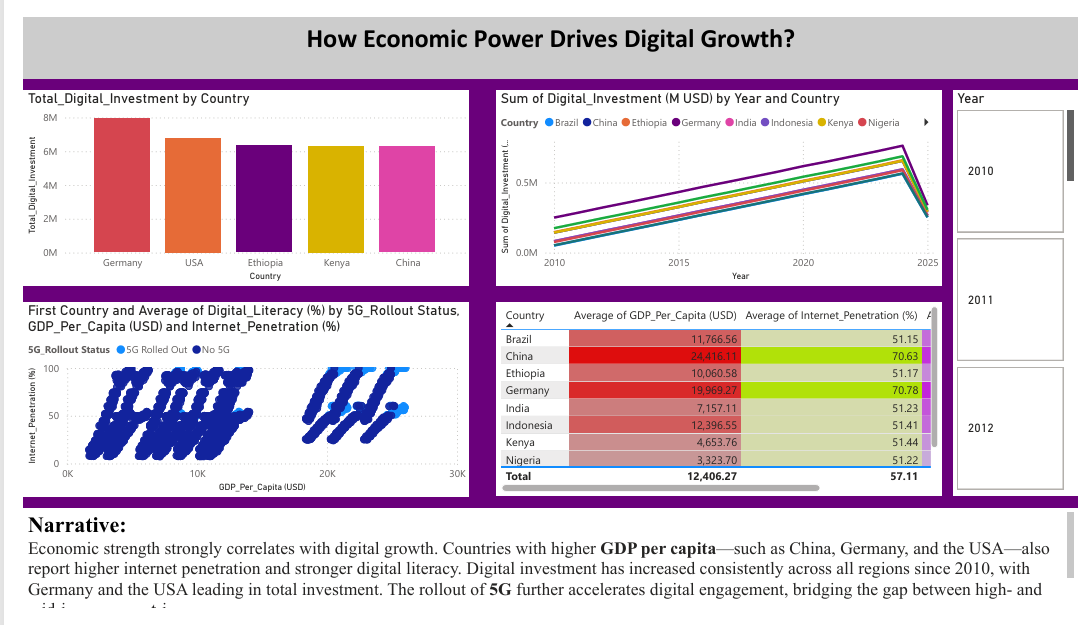

The page's visual inventory and layout, read from the dashboard file:
{"tool":"powerbi","page":{"name":"Page 3","canvas":[1280,720],"ordinal":2},"visuals":[{"type":"scatterChart","fields":{"X":["global_internet_adoption_daily_2010_2025_with_clusters.GDP_Per_Capita (USD)"],"Y":["global_internet_adoption_daily_2010_2025_with_clusters.Internet_Penetration (%)"],"Series":["global_internet_adoption_daily_2010_2025_with_clusters.5G_Status"]},"box":[0,344.8,541,236],"z":0},{"type":"columnChart","fields":{"Category":["global_internet_adoption_daily_2010_2025_with_clusters.Country"],"Y":["All Measures.Total_Digital_Investment"]},"box":[0,88.3,541.1,236.8],"z":1000},{"type":"lineChart","fields":{"Category":["global_internet_adoption_daily_2010_2025_with_clusters.Date.Variation.Date Hierarchy.Year","global_internet_adoption_daily_2010_2025_with_clusters.Date.Variation.Date Hierarchy.Quarter","global_internet_adoption_daily_2010_2025_with_clusters.Date.Variation.Date Hierarchy.Month","global_internet_adoption_daily_2010_2025_with_clusters.Date.Variation.Date Hierarchy.Day"],"Y":["Sum(global_internet_adoption_daily_2010_2025_with_clusters.Digital_Investment (M USD))"],"Series":["global_internet_adoption_daily_2010_2025_with_clusters.Country"]},"box":[574.2,88.3,541.1,236.8],"z":2000},{"type":"tableEx","fields":{"Values":["global_internet_adoption_daily_2010_2025_with_clusters.Country","Avg(global_internet_adoption_daily_2010_2025_with_clusters.GDP_Per_Capita (USD))","Avg(global_internet_adoption_daily_2010_2025_with_clusters.Internet_Penetration (%))","Avg(global_internet_adoption_daily_2010_2025_with_clusters.Digital_Literacy (%))"]},"box":[574.2,344.8,541.1,235.6],"z":3000},{"type":"advancedSlicerVisual","fields":{"Values":["global_internet_adoption_daily_2010_2025_with_clusters.Date.Variation.Date Hierarchy.Year"]},"box":[1127.6,88.3,152.1,492],"z":4000},{"type":"textbox","box":[0,0,1280.3,75.5],"z":5000},{"type":"textbox","box":[0,595.1,1279.8,125.2],"z":5001}]}

Visuals, with their boxes in screenshot pixels (x1, y1, x2, y2), scaled from the page's 1280x720 canvas onto the 1088x625 screenshot:
scatterChart - global_internet_adoption_daily_2010_2025_with_clusters.GDP_Per_Capita (USD) x global_internet_adoption_daily_2010_2025_with_clusters.Internet_Penetration (%): 0 299 460 504
columnChart - global_internet_adoption_daily_2010_2025_with_clusters.Country x All Measures.Total_Digital_Investment: 0 77 460 282
lineChart - global_internet_adoption_daily_2010_2025_with_clusters.Date.Variation.Date Hierarchy.Year x global_internet_adoption_daily_2010_2025_with_clusters.Date.Variation.Date Hierarchy.Quarter: 488 77 948 282
tableEx - global_internet_adoption_daily_2010_2025_with_clusters.Country x Avg(global_internet_adoption_daily_2010_2025_with_clusters.GDP_Per_Capita (USD)): 488 299 948 504
advancedSlicerVisual - global_internet_adoption_daily_2010_2025_with_clusters.Date.Variation.Date Hierarchy.Year: 958 77 1087 504
textbox: 0 0 1087 66
textbox: 0 517 1087 624
